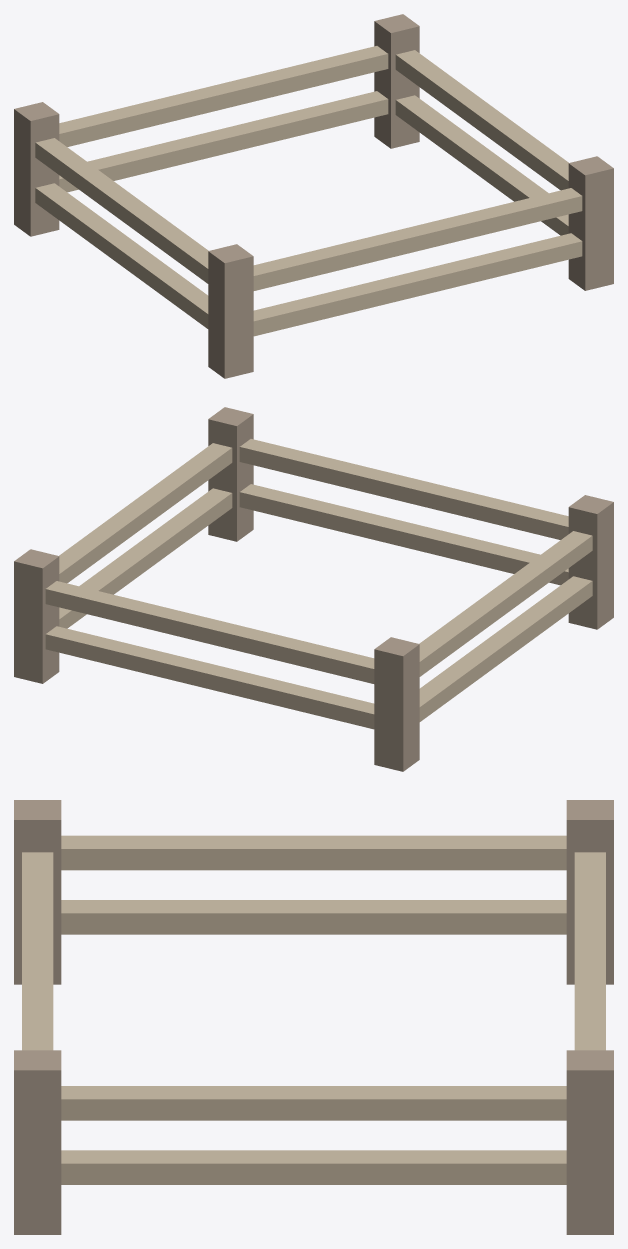
Rendered from prop_pen.glb.
3 views of the same model, one above another, from view 1: azimuth 30°, elevation 25°; view 2: azimuth 150°, elevation 25°; view 3: azimuth 270°, elevation 25° (orthographic). The views are drawn at different scales.
Visible parts, largest first — view 1: prop_pen; view 2: prop_pen; view 3: prop_pen.
Boxes of the visible parts, <box> form: prop_pen: <box>14,14,613,378</box>; prop_pen: <box>14,407,613,771</box>; prop_pen: <box>14,800,613,1234</box>.
Bounding box in the file's own units: 0.162 × 0.046 × 0.152.
